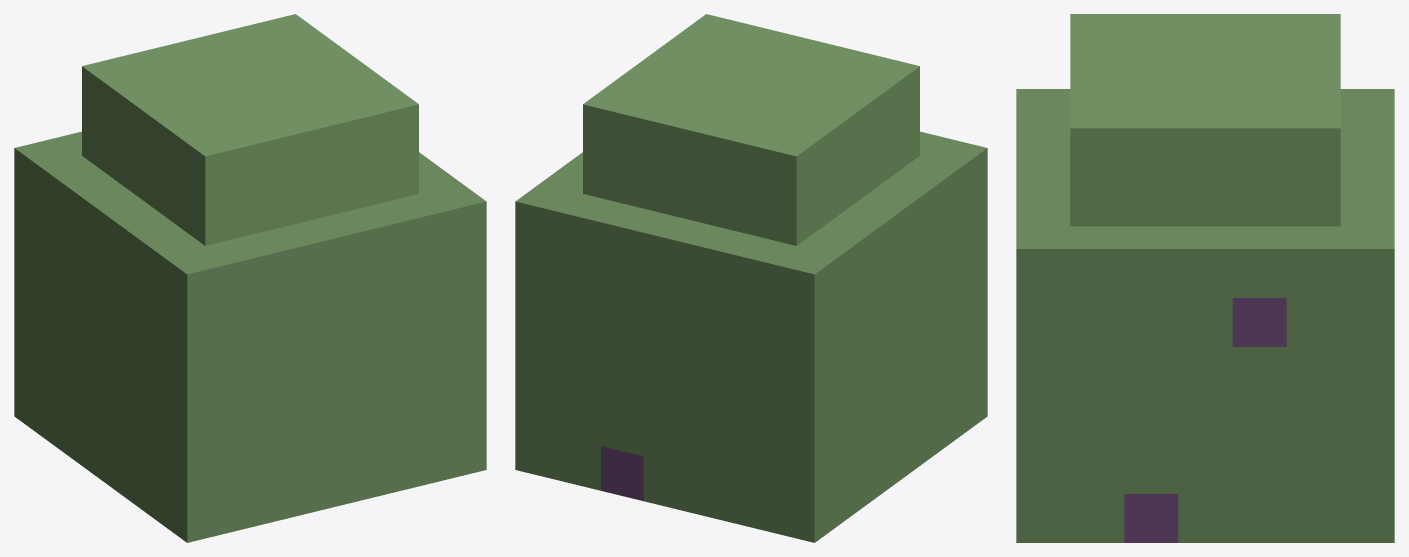
File: mora_03.glb
3 renders of one model, left to right at view 1: azimuth 30°, elevation 25°; view 2: azimuth 150°, elevation 25°; view 3: azimuth 270°, elevation 25°, orthographic. The views are drawn at different scales.
Parts seen in each view (by area): view 1: mora_03; view 2: mora_03; view 3: mora_03.
Part boxes in pixels (x1,y1,x2,y2): mora_03: [14, 14, 486, 542]; mora_03: [515, 14, 987, 542]; mora_03: [1016, 14, 1394, 542].
Bounding box in the file's own units: 0.7 × 0.8 × 0.7.
